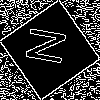N: (25, 25, 76, 68)
